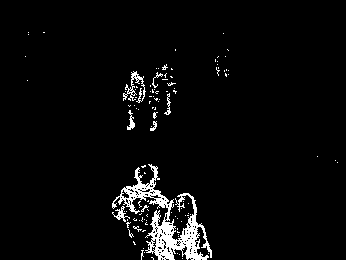person: (109, 163, 168, 260), (154, 191, 213, 260), (149, 62, 178, 131), (123, 69, 146, 131)
